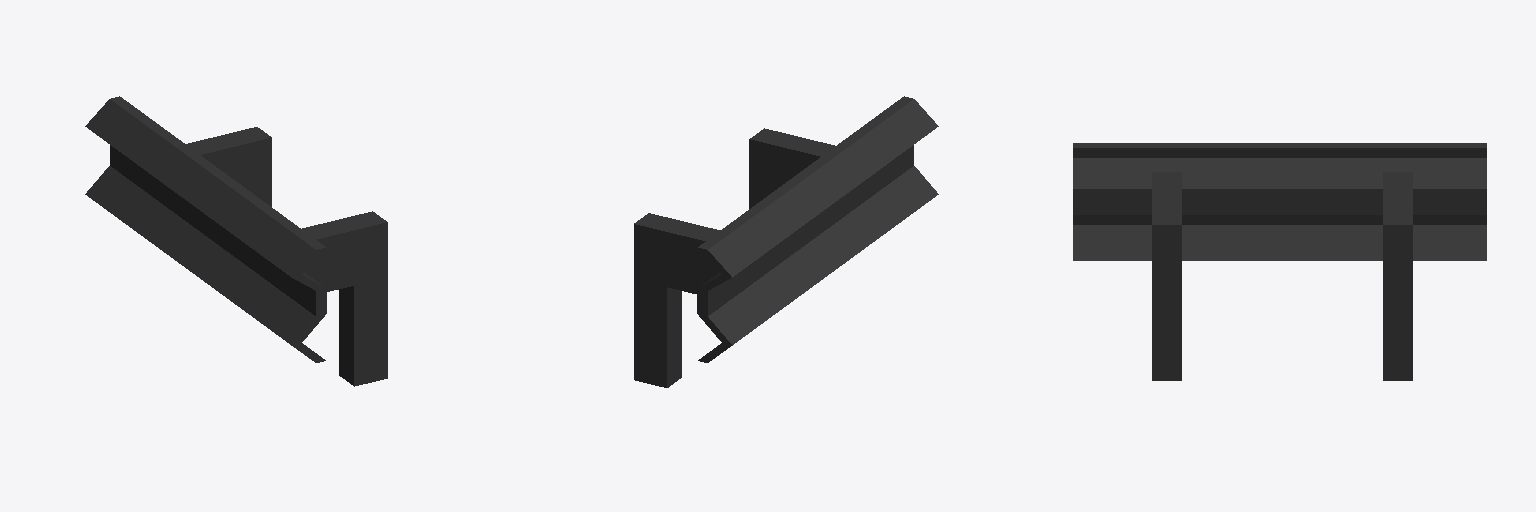
File: crashbarrier.obj
The picture shows the model from 3 angles: view 1: azimuth 30°, elevation 25°; view 2: azimuth 150°, elevation 25°; view 3: azimuth 270°, elevation 25°; orthographic projection.
Parts seen in each view (by area): view 1: Plane_Plane.002; view 2: Plane_Plane.002; view 3: Plane_Plane.002.
Part boxes in pixels (left/top/right/bottom): Plane_Plane.002: left=85, top=96, right=387, bottom=386; Plane_Plane.002: left=634, top=96, right=938, bottom=387; Plane_Plane.002: left=1073, top=143, right=1486, bottom=380.
Size of the model in its own units: 0.757 by 0.9844 by 2.